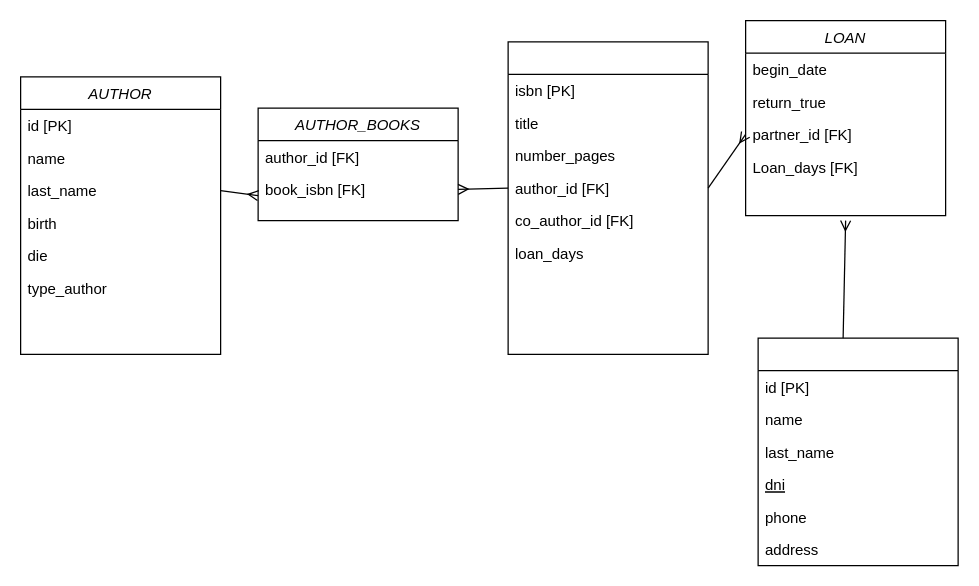
Some shapes in this 979 by 586 pixel diagram are drawn without their labels. Each missing label, with the box of its shape:
BOOKS: (507, 41, 708, 354)
PARTNER: (757, 337, 958, 566)
